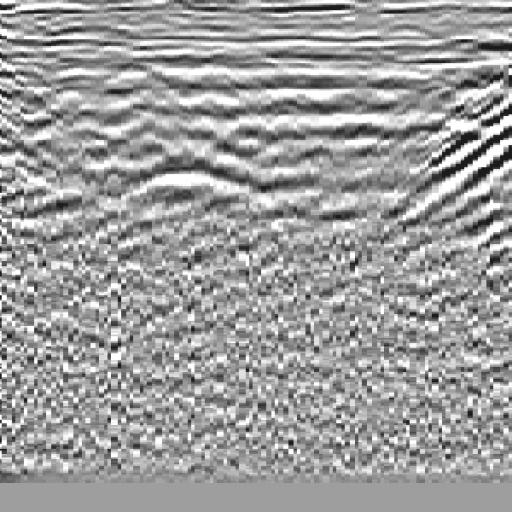metalic: (102, 41, 278, 263)
nonmetalic: (393, 66, 512, 267)
